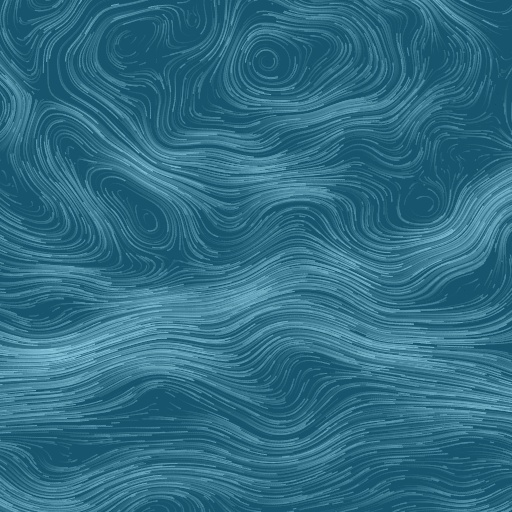eddy: (98, 173, 178, 253), (227, 25, 311, 96), (101, 11, 171, 68), (398, 176, 450, 230)
